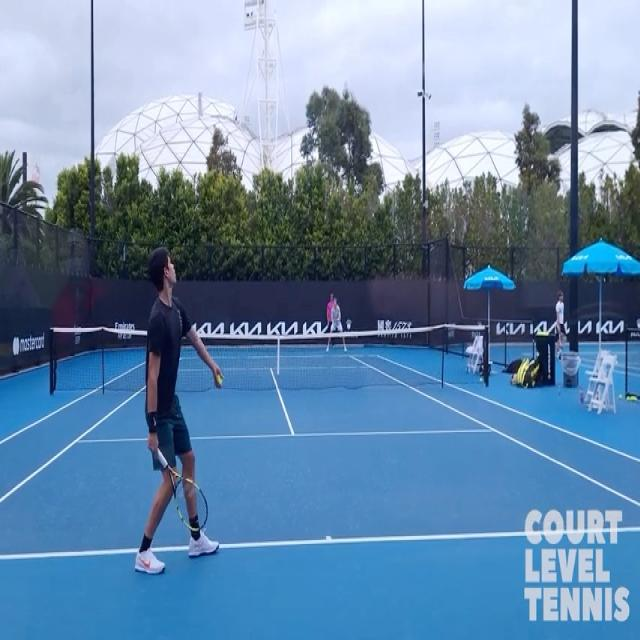serve_ready: (136, 247, 221, 574)
